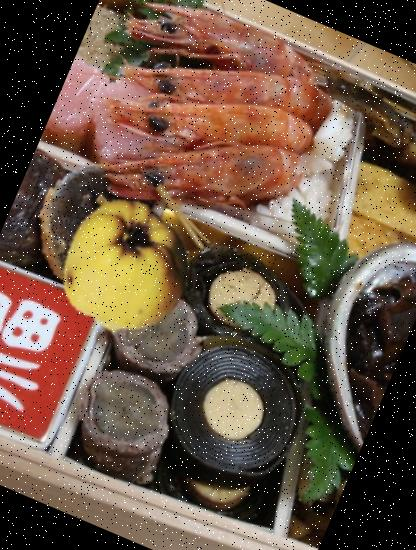Quince: (41, 181, 214, 354)
